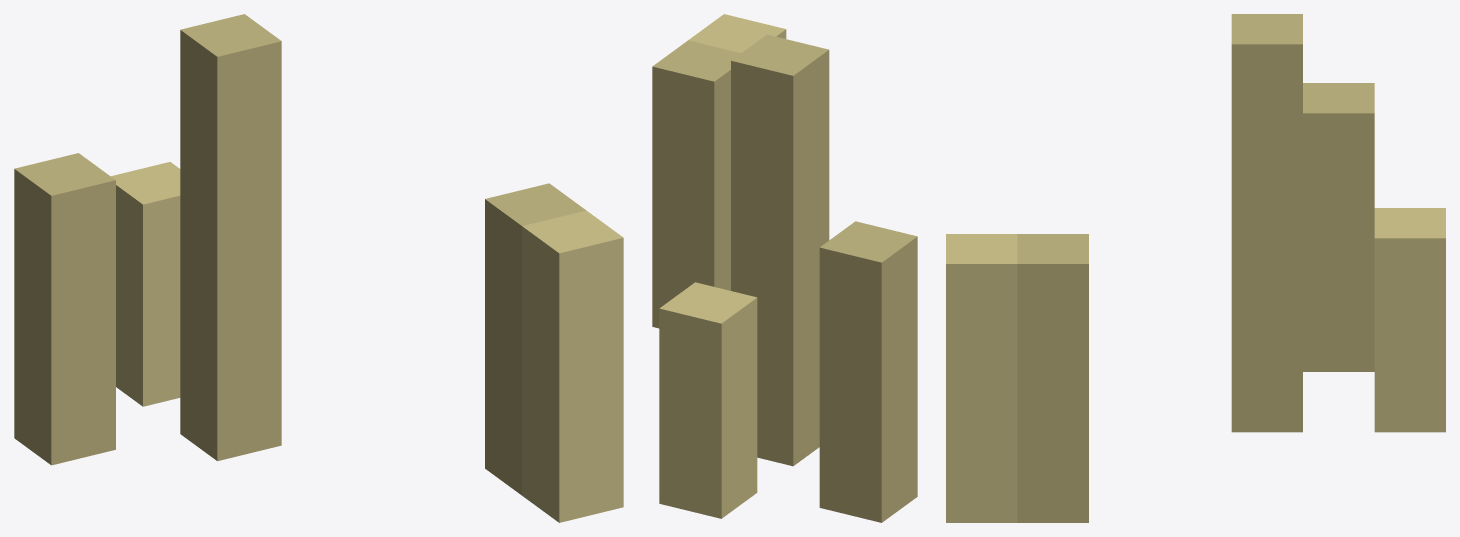
The model's file is cebada_silvestre_03.glb.
The picture shows the model from 3 angles, left to right: view 1: azimuth 30°, elevation 25°; view 2: azimuth 150°, elevation 25°; view 3: azimuth 270°, elevation 25°; orthographic projection. The views are drawn at different scales.
Parts seen in each view (by area): view 1: cebada_silvestre_03; view 2: cebada_silvestre_03; view 3: cebada_silvestre_03.
Boxes of the visible parts, left/top/right/bottom form: cebada_silvestre_03: left=14, top=14, right=623, bottom=522; cebada_silvestre_03: left=652, top=14, right=917, bottom=522; cebada_silvestre_03: left=946, top=14, right=1445, bottom=522.
Bounding box in the file's own units: 0.6 × 0.6 × 0.7.
